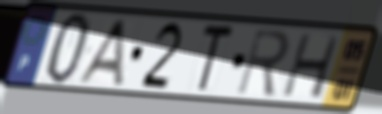0: (43, 11, 92, 87)
2: (139, 21, 185, 92)
A: (73, 17, 130, 88)
H: (280, 31, 343, 100)
R: (234, 26, 292, 99)
T: (194, 21, 238, 96)
